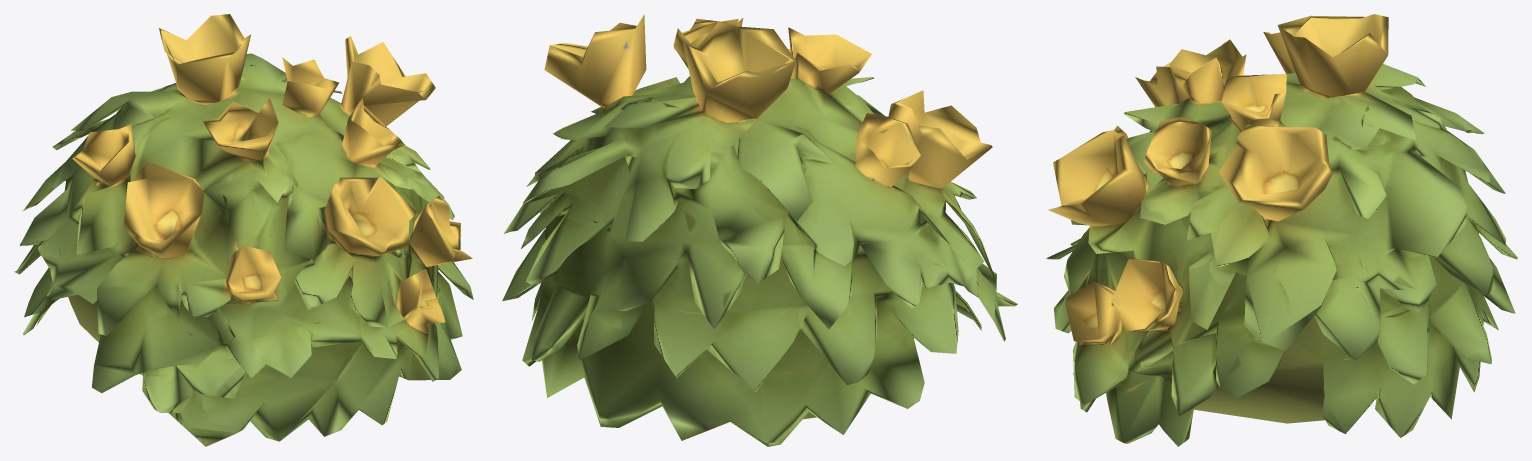
Rendered from arbusto.glb.
3 renders of one model, left to right at view 1: azimuth 30°, elevation 25°; view 2: azimuth 150°, elevation 25°; view 3: azimuth 270°, elevation 25°, orthographic. The views are drawn at different scales.
Parts seen in each view (by area): view 1: arbusto_malla; view 2: arbusto_malla; view 3: arbusto_malla.
Boxes of the visible parts, x1,y1,x2,y2 form: arbusto_malla: (14, 14, 473, 446); arbusto_malla: (502, 14, 1017, 446); arbusto_malla: (1046, 14, 1517, 446).
Size of the model in its own units: 0.997 by 0.8253 by 0.9285.
Materials: 1 (1 with a texture image).
